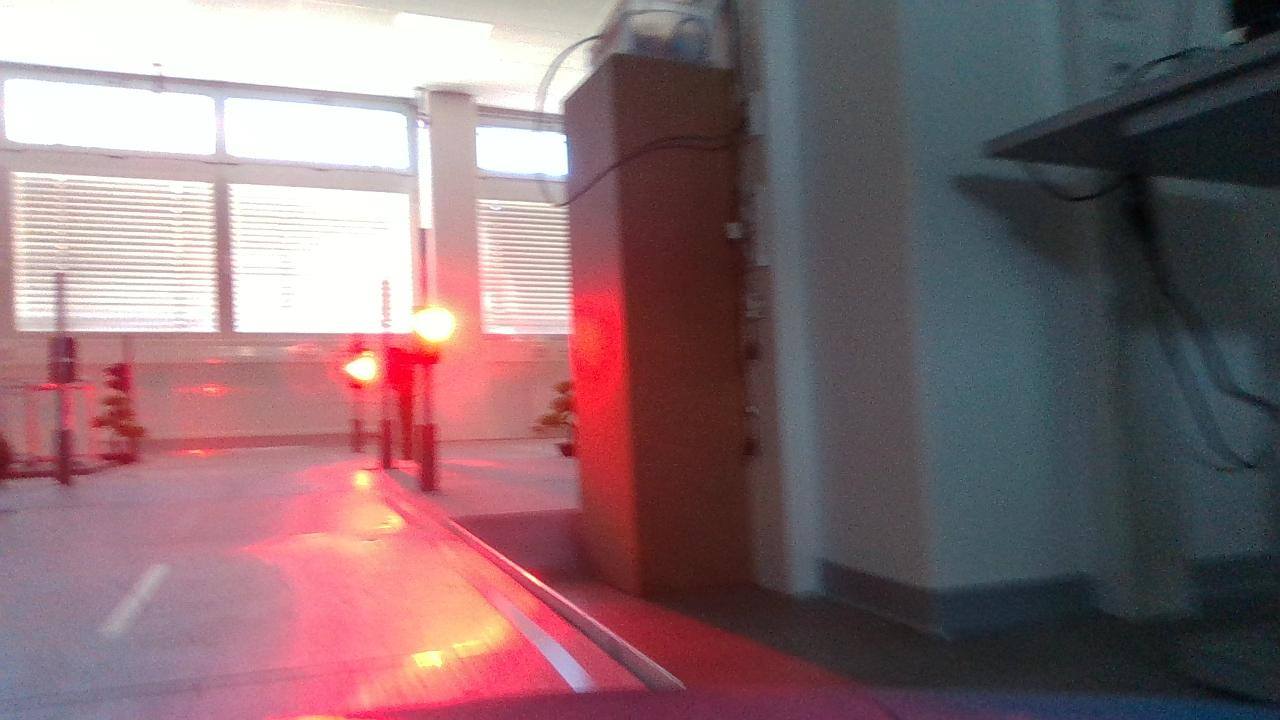traffic_light_red: (392, 293, 458, 377)
